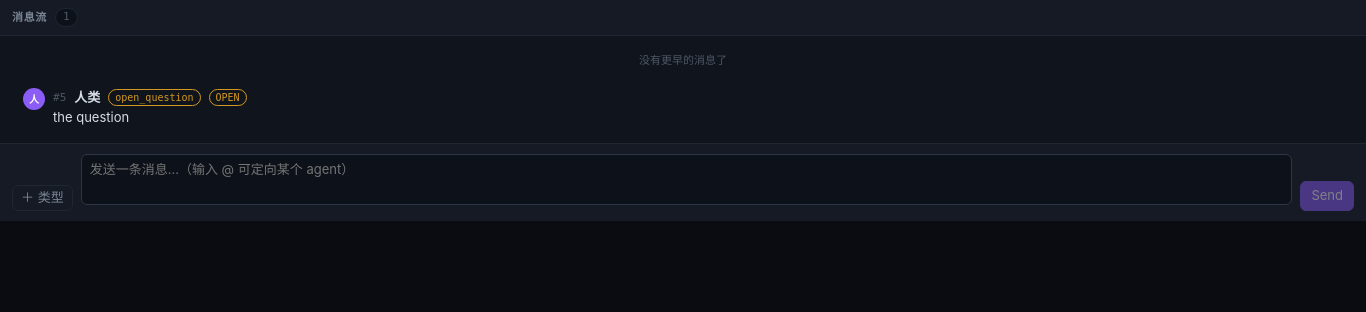
Scenario: MessageStreamPanel › offers answer types for a question target and clears them when the target is cancelled
Click the text "the question" at (91, 116), box [53,108,129,124]
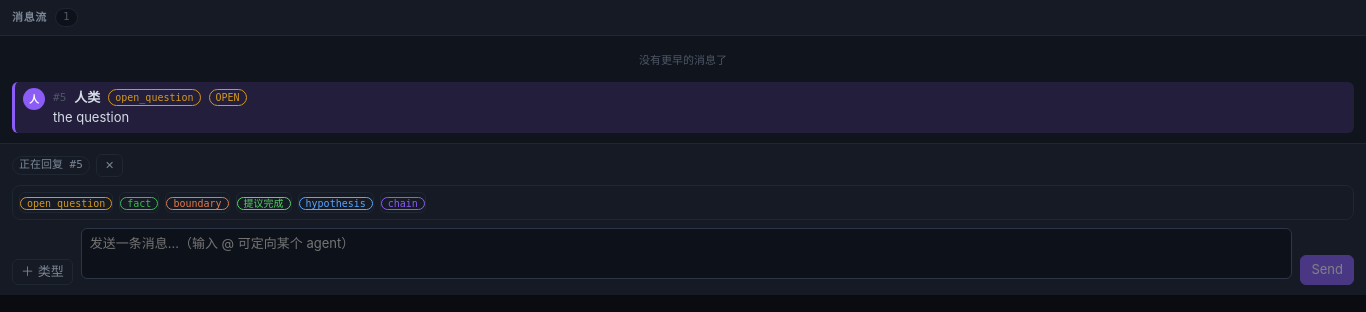
Expected: the option "hypothesis" is shown
Expected: the option "fact" is shown, [119,192,159,213]
Expected: the option "boundary" is shown, [165,192,230,213]
Click the option "hypothesis" at (336, 202), box [298,192,374,213]
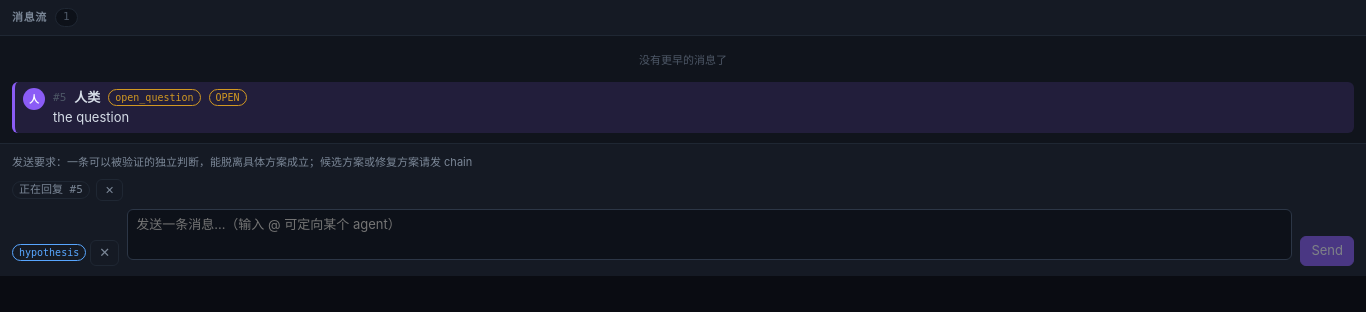
Click the button named "取消回复目标" at (110, 190), box [96,178,123,201]
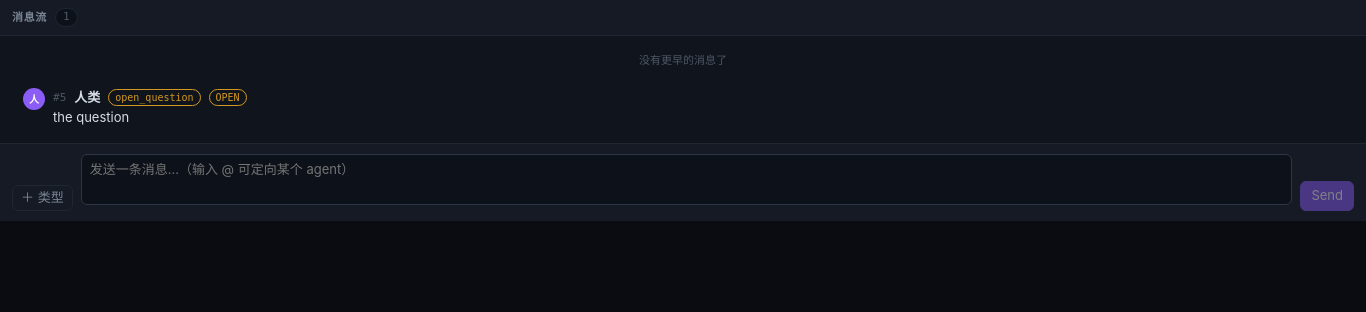
Expected: the button "清除类型" is gone
